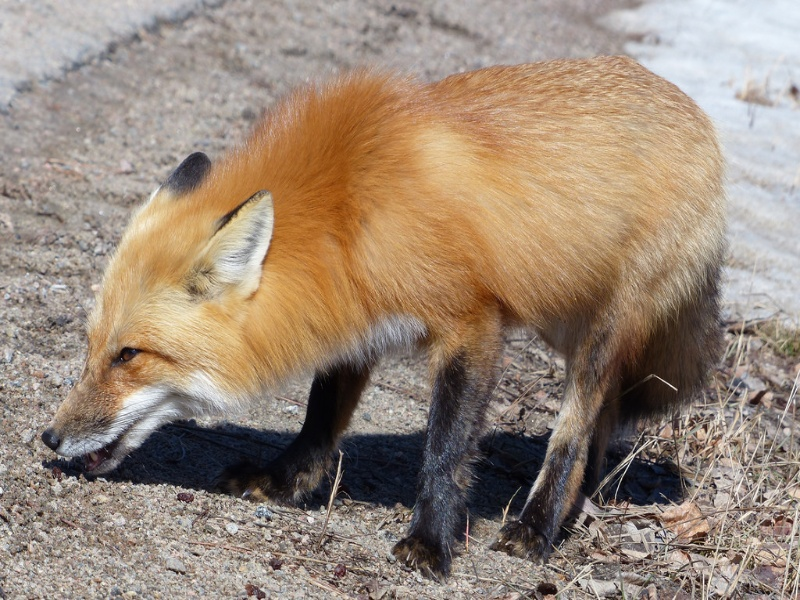fox: (42, 50, 738, 587)
